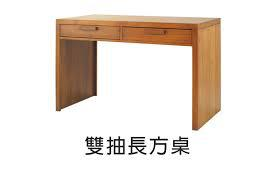desk: (41, 3, 232, 133)
